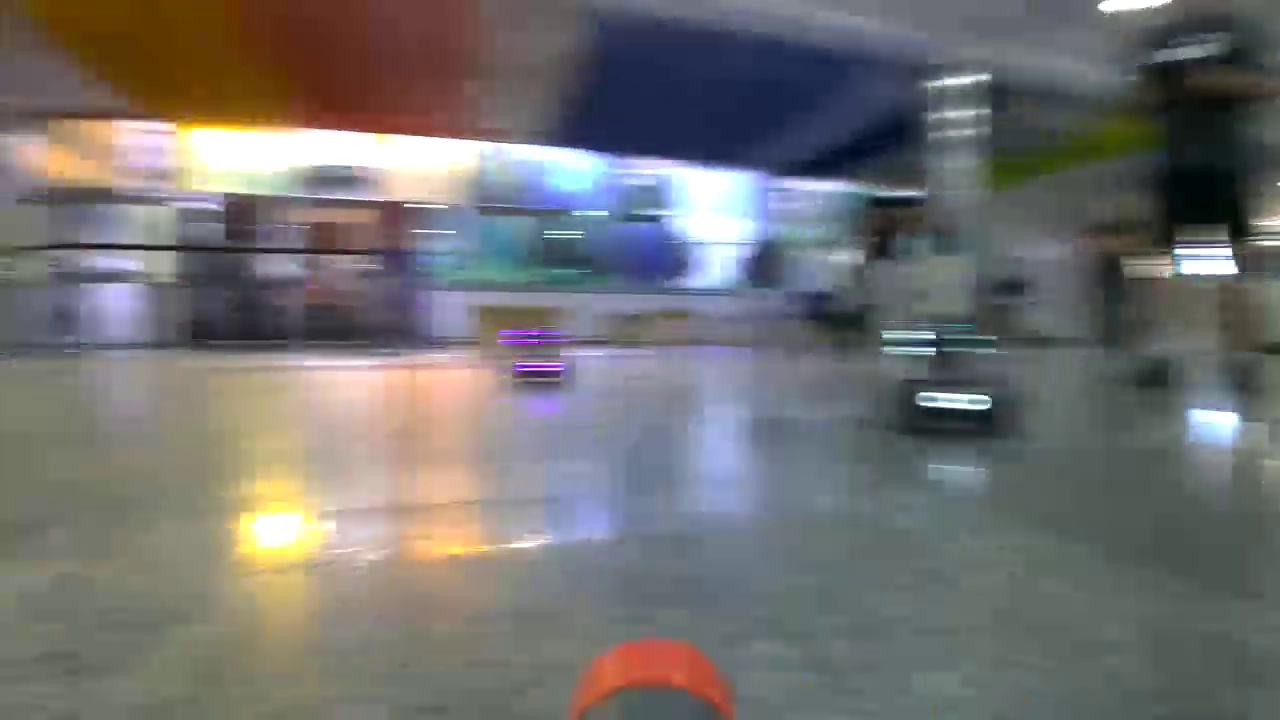robot: (866, 309, 1021, 441), (489, 322, 573, 395)
